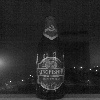beer: (34, 12, 74, 95)
